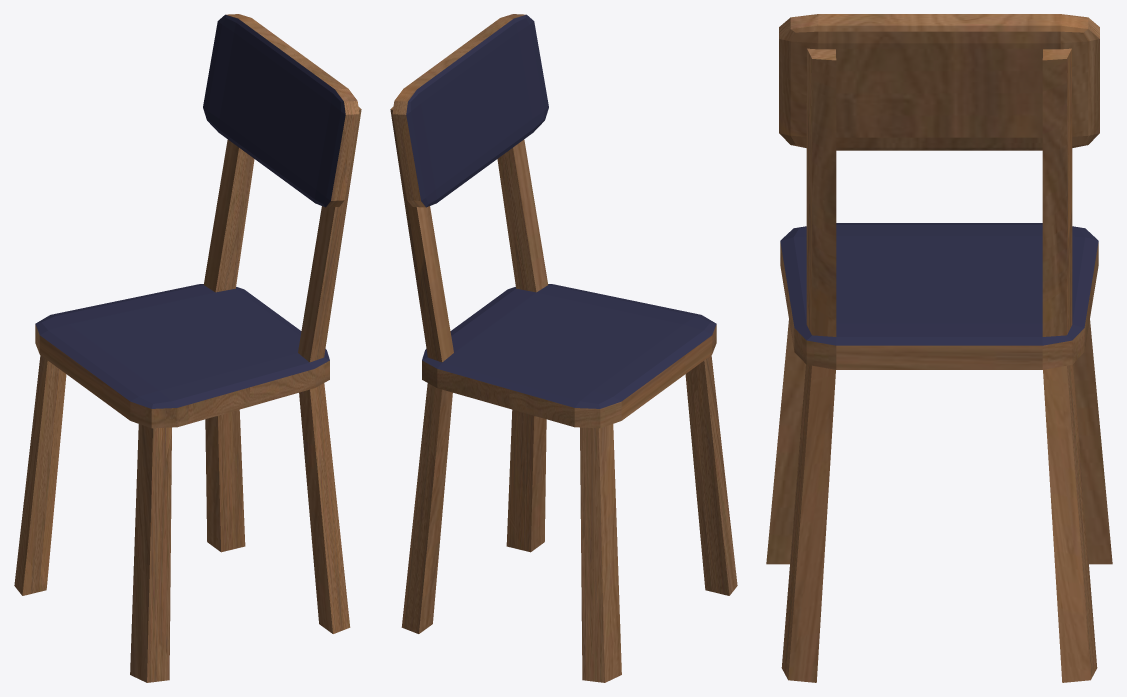
Rendered from stol.glb.
The picture shows the model from 3 angles, left to right: view 1: azimuth 30°, elevation 25°; view 2: azimuth 150°, elevation 25°; view 3: azimuth 270°, elevation 25°; orthographic projection. The views are drawn at different scales.
Parts seen in each view (by area): view 1: mesh_id5, mesh_id6; view 2: mesh_id5, mesh_id6; view 3: mesh_id5, mesh_id6.
Boxes of the visible parts, bbox=[...] form: mesh_id5: bbox=[14, 14, 361, 682]; mesh_id6: bbox=[35, 14, 345, 408]; mesh_id5: bbox=[390, 14, 737, 682]; mesh_id6: bbox=[406, 14, 716, 408]; mesh_id5: bbox=[766, 14, 1112, 682]; mesh_id6: bbox=[780, 223, 1098, 345].
Size of the model in its own units: 0.239 by 0.512 by 0.242.
2 materials, 2 textured.
